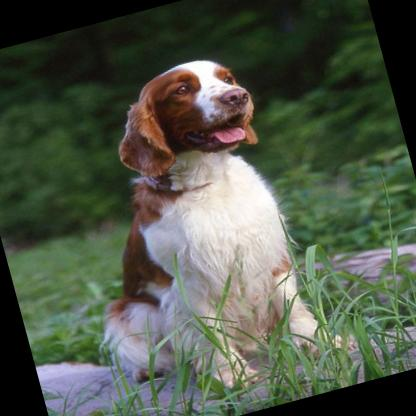Welsh_springer_spaniel: (35, 33, 364, 416)
